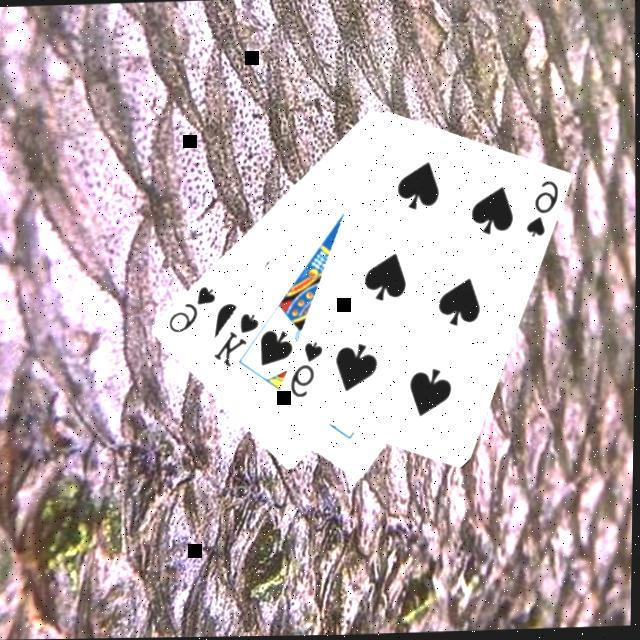6S: (524, 178, 564, 242), (288, 339, 328, 402)
9S: (167, 283, 223, 337)
KS: (211, 310, 266, 372)
